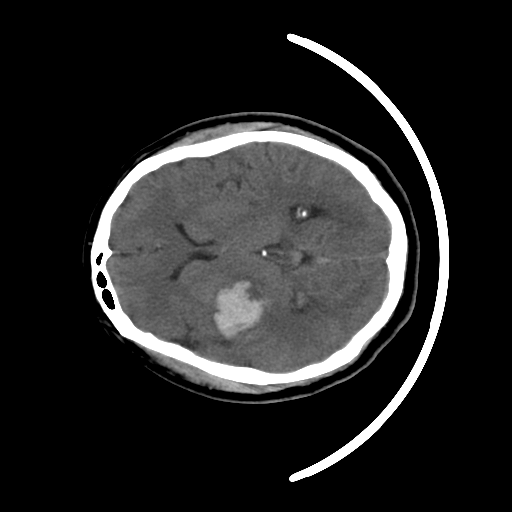a: (199, 262, 285, 355)
